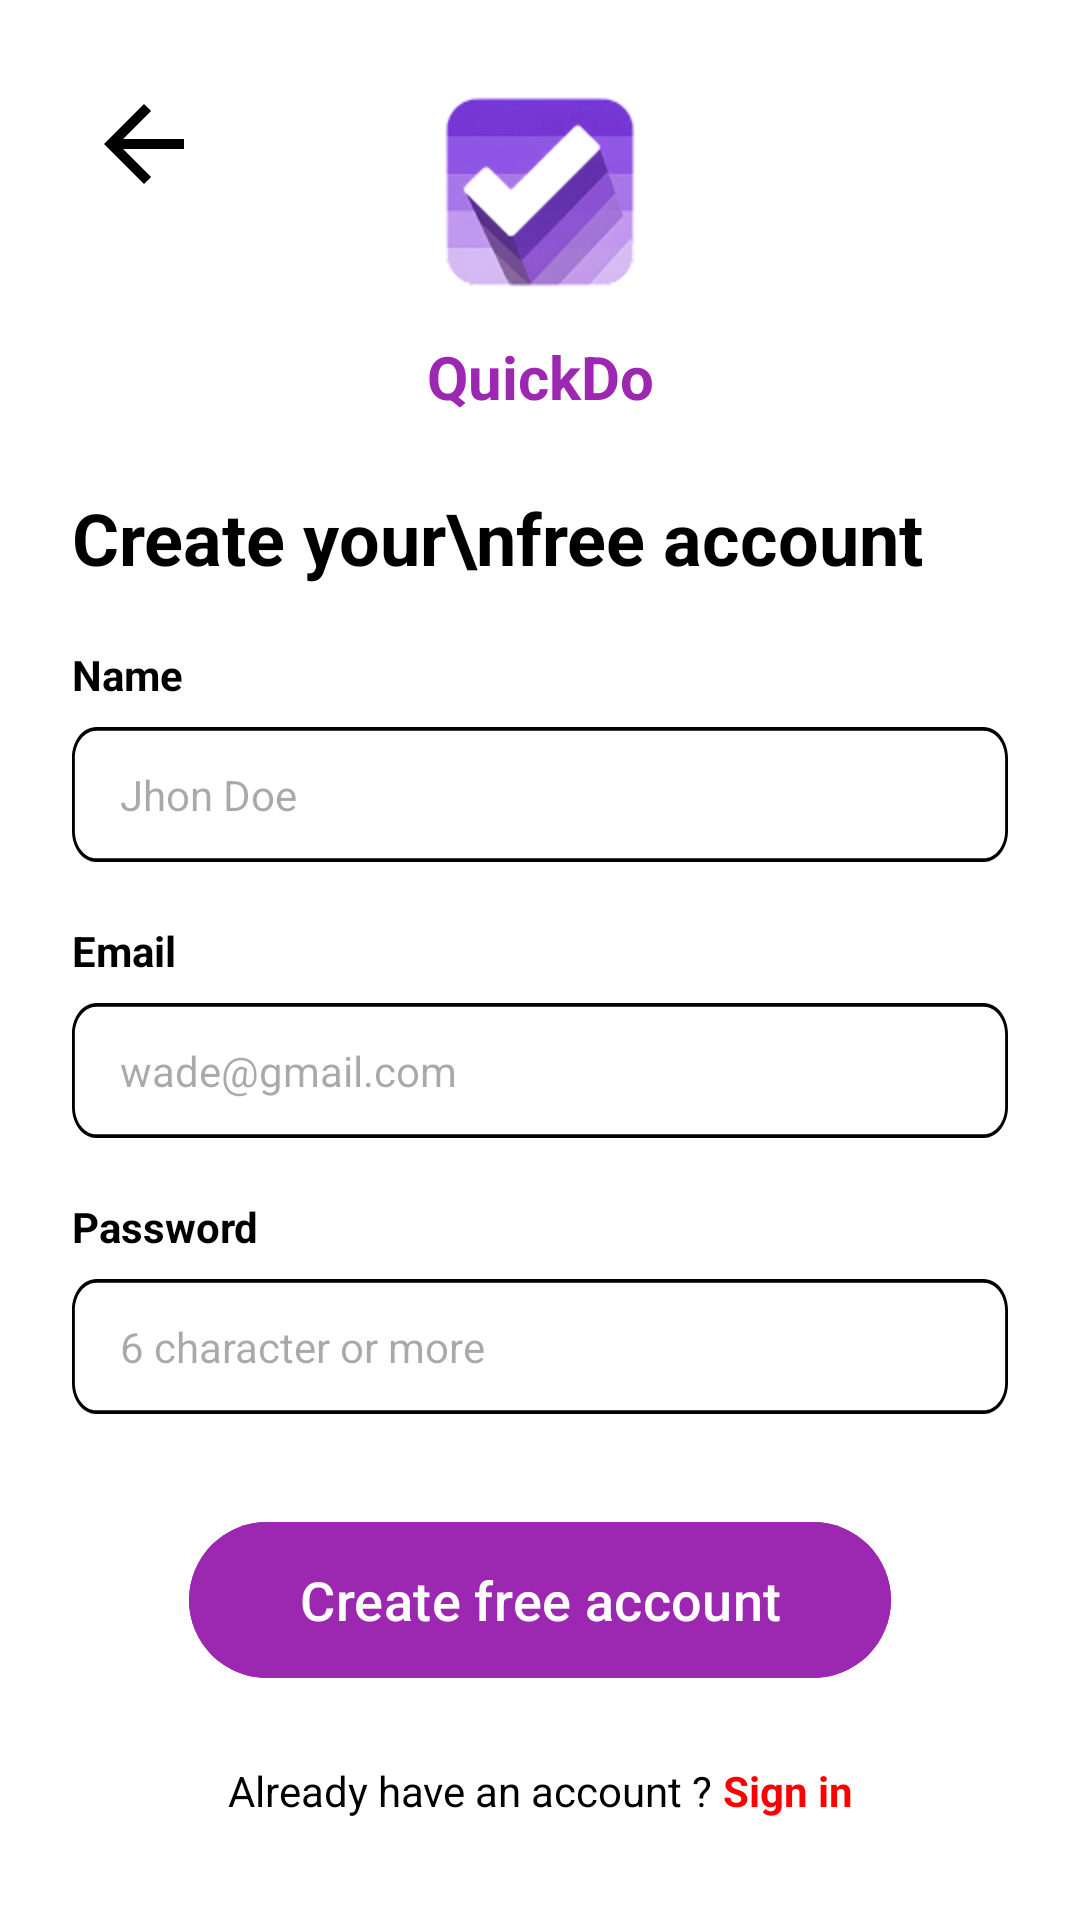

Icon click points for this 1080px×1920px phone screenshot, format (x=x, y=y):
arrow back: (x=144, y=144)
